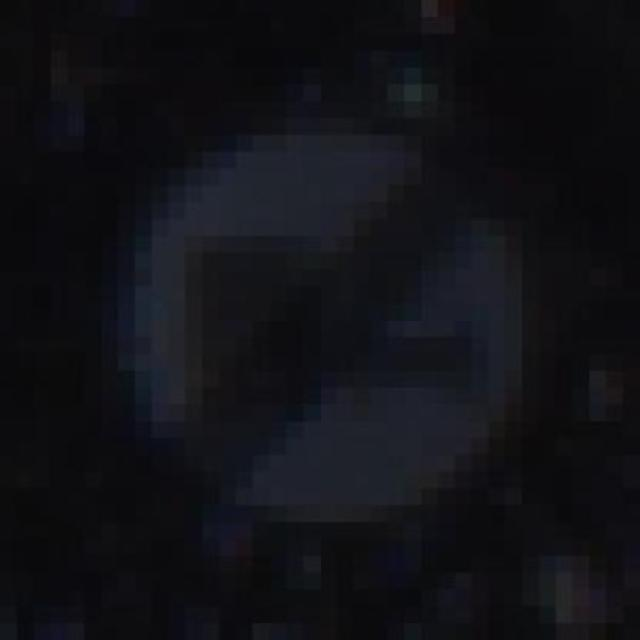Overtaking by trucks is prohibited: (50, 67, 573, 539)
